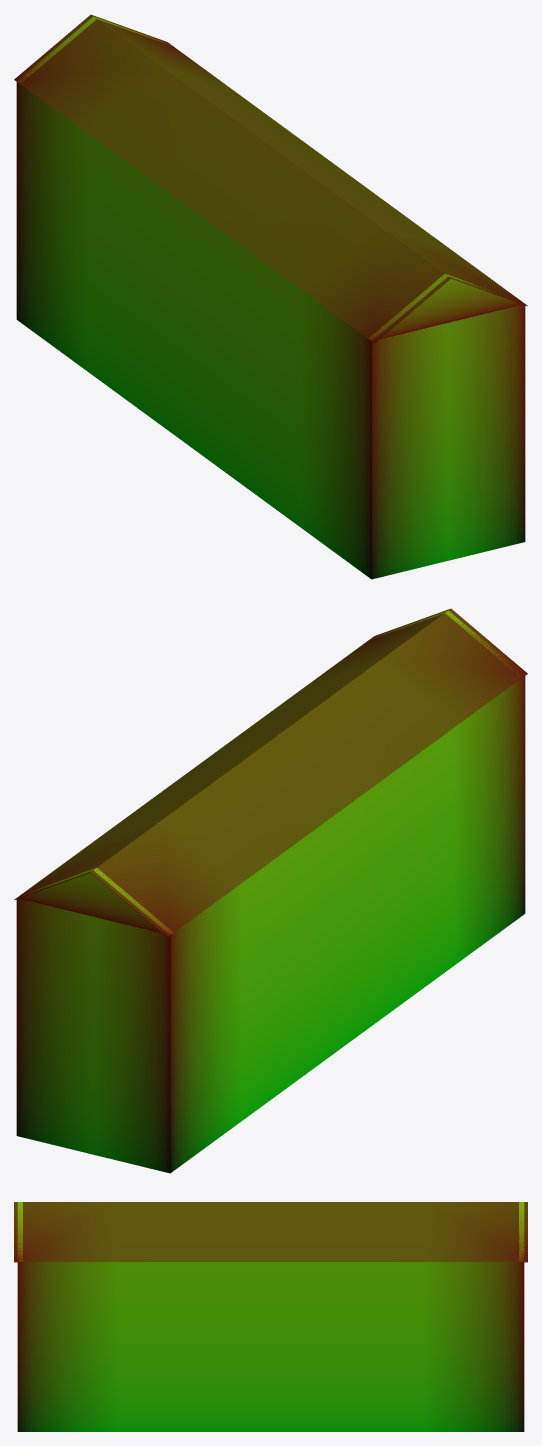
File: nha_ong_5x20.far.glb
3 renders of one model, top to bottom at view 1: azimuth 30°, elevation 25°; view 2: azimuth 150°, elevation 25°; view 3: azimuth 270°, elevation 25°, orthographic. The views are drawn at different scales.
Parts seen in each view (by area): view 1: nha_ong_5x20; view 2: nha_ong_5x20; view 3: nha_ong_5x20.
Boxes of the visible parts, x1=… form: nha_ong_5x20: x1=14, y1=14, x2=527, y2=579; nha_ong_5x20: x1=14, y1=608, x2=527, y2=1173; nha_ong_5x20: x1=14, y1=1202, x2=527, y2=1431.
Size of what is drawn, in the model's own units: 5 by 8.84 by 20.3.
